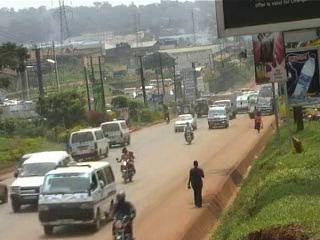Car: (10, 149, 76, 209), (172, 112, 197, 133), (193, 99, 210, 118), (0, 174, 10, 206)
Motorcycle: (102, 189, 138, 239), (113, 145, 137, 184), (181, 123, 196, 148), (161, 109, 174, 127)
